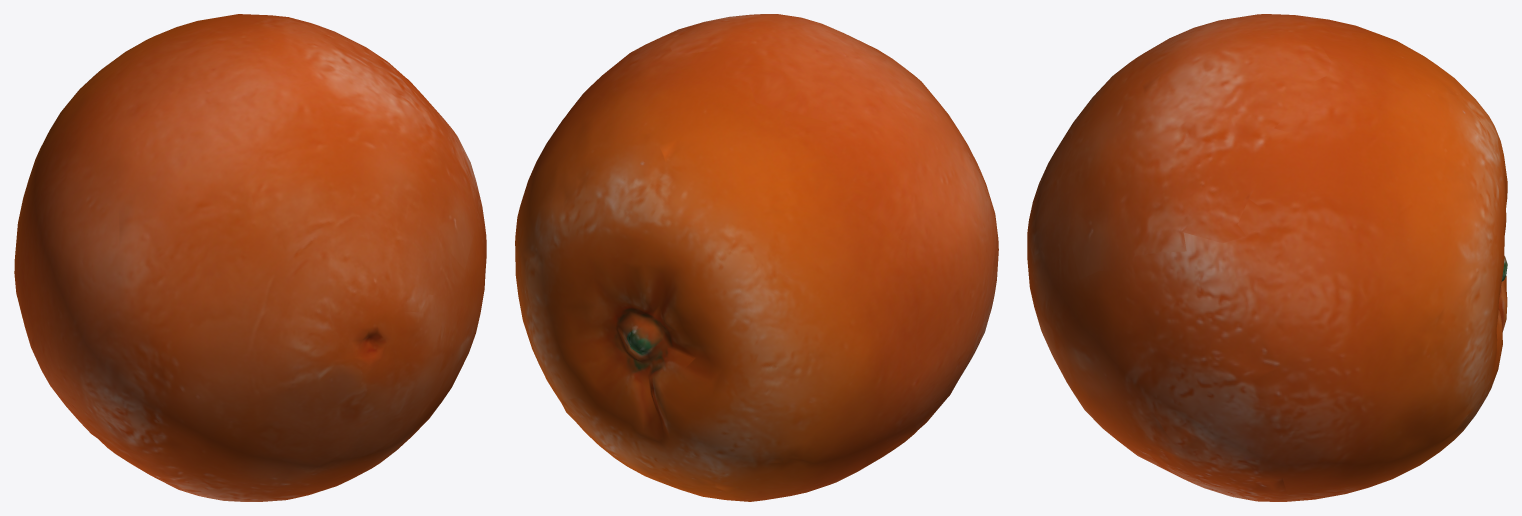
File: 017_orange.obj
The picture shows the model from 3 angles, left to right: view 1: azimuth 30°, elevation 25°; view 2: azimuth 150°, elevation 25°; view 3: azimuth 270°, elevation 25°; orthographic projection. The views are drawn at different scales.
Parts seen in each view (by area): view 1: 017_orange; view 2: 017_orange; view 3: 017_orange.
Part boxes in pixels (bbox=[...]): 017_orange: bbox=[14, 14, 486, 501]; 017_orange: bbox=[515, 14, 998, 501]; 017_orange: bbox=[1027, 14, 1507, 501].
Bounding box in the file's own units: 0.0721 × 0.074 × 0.0714.
Materials: 1 (1 with a texture image).
